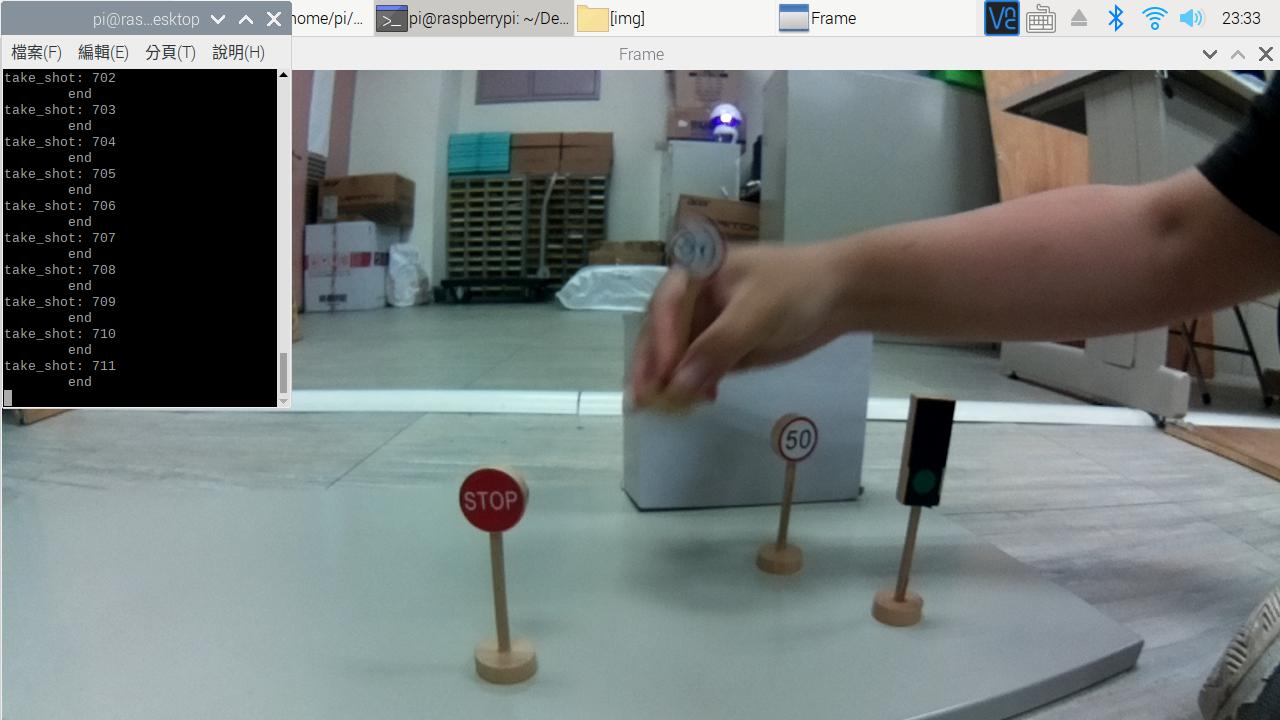Green: (890, 373, 968, 520)
Speed50: (768, 408, 824, 473)
Stop: (455, 466, 542, 546)
